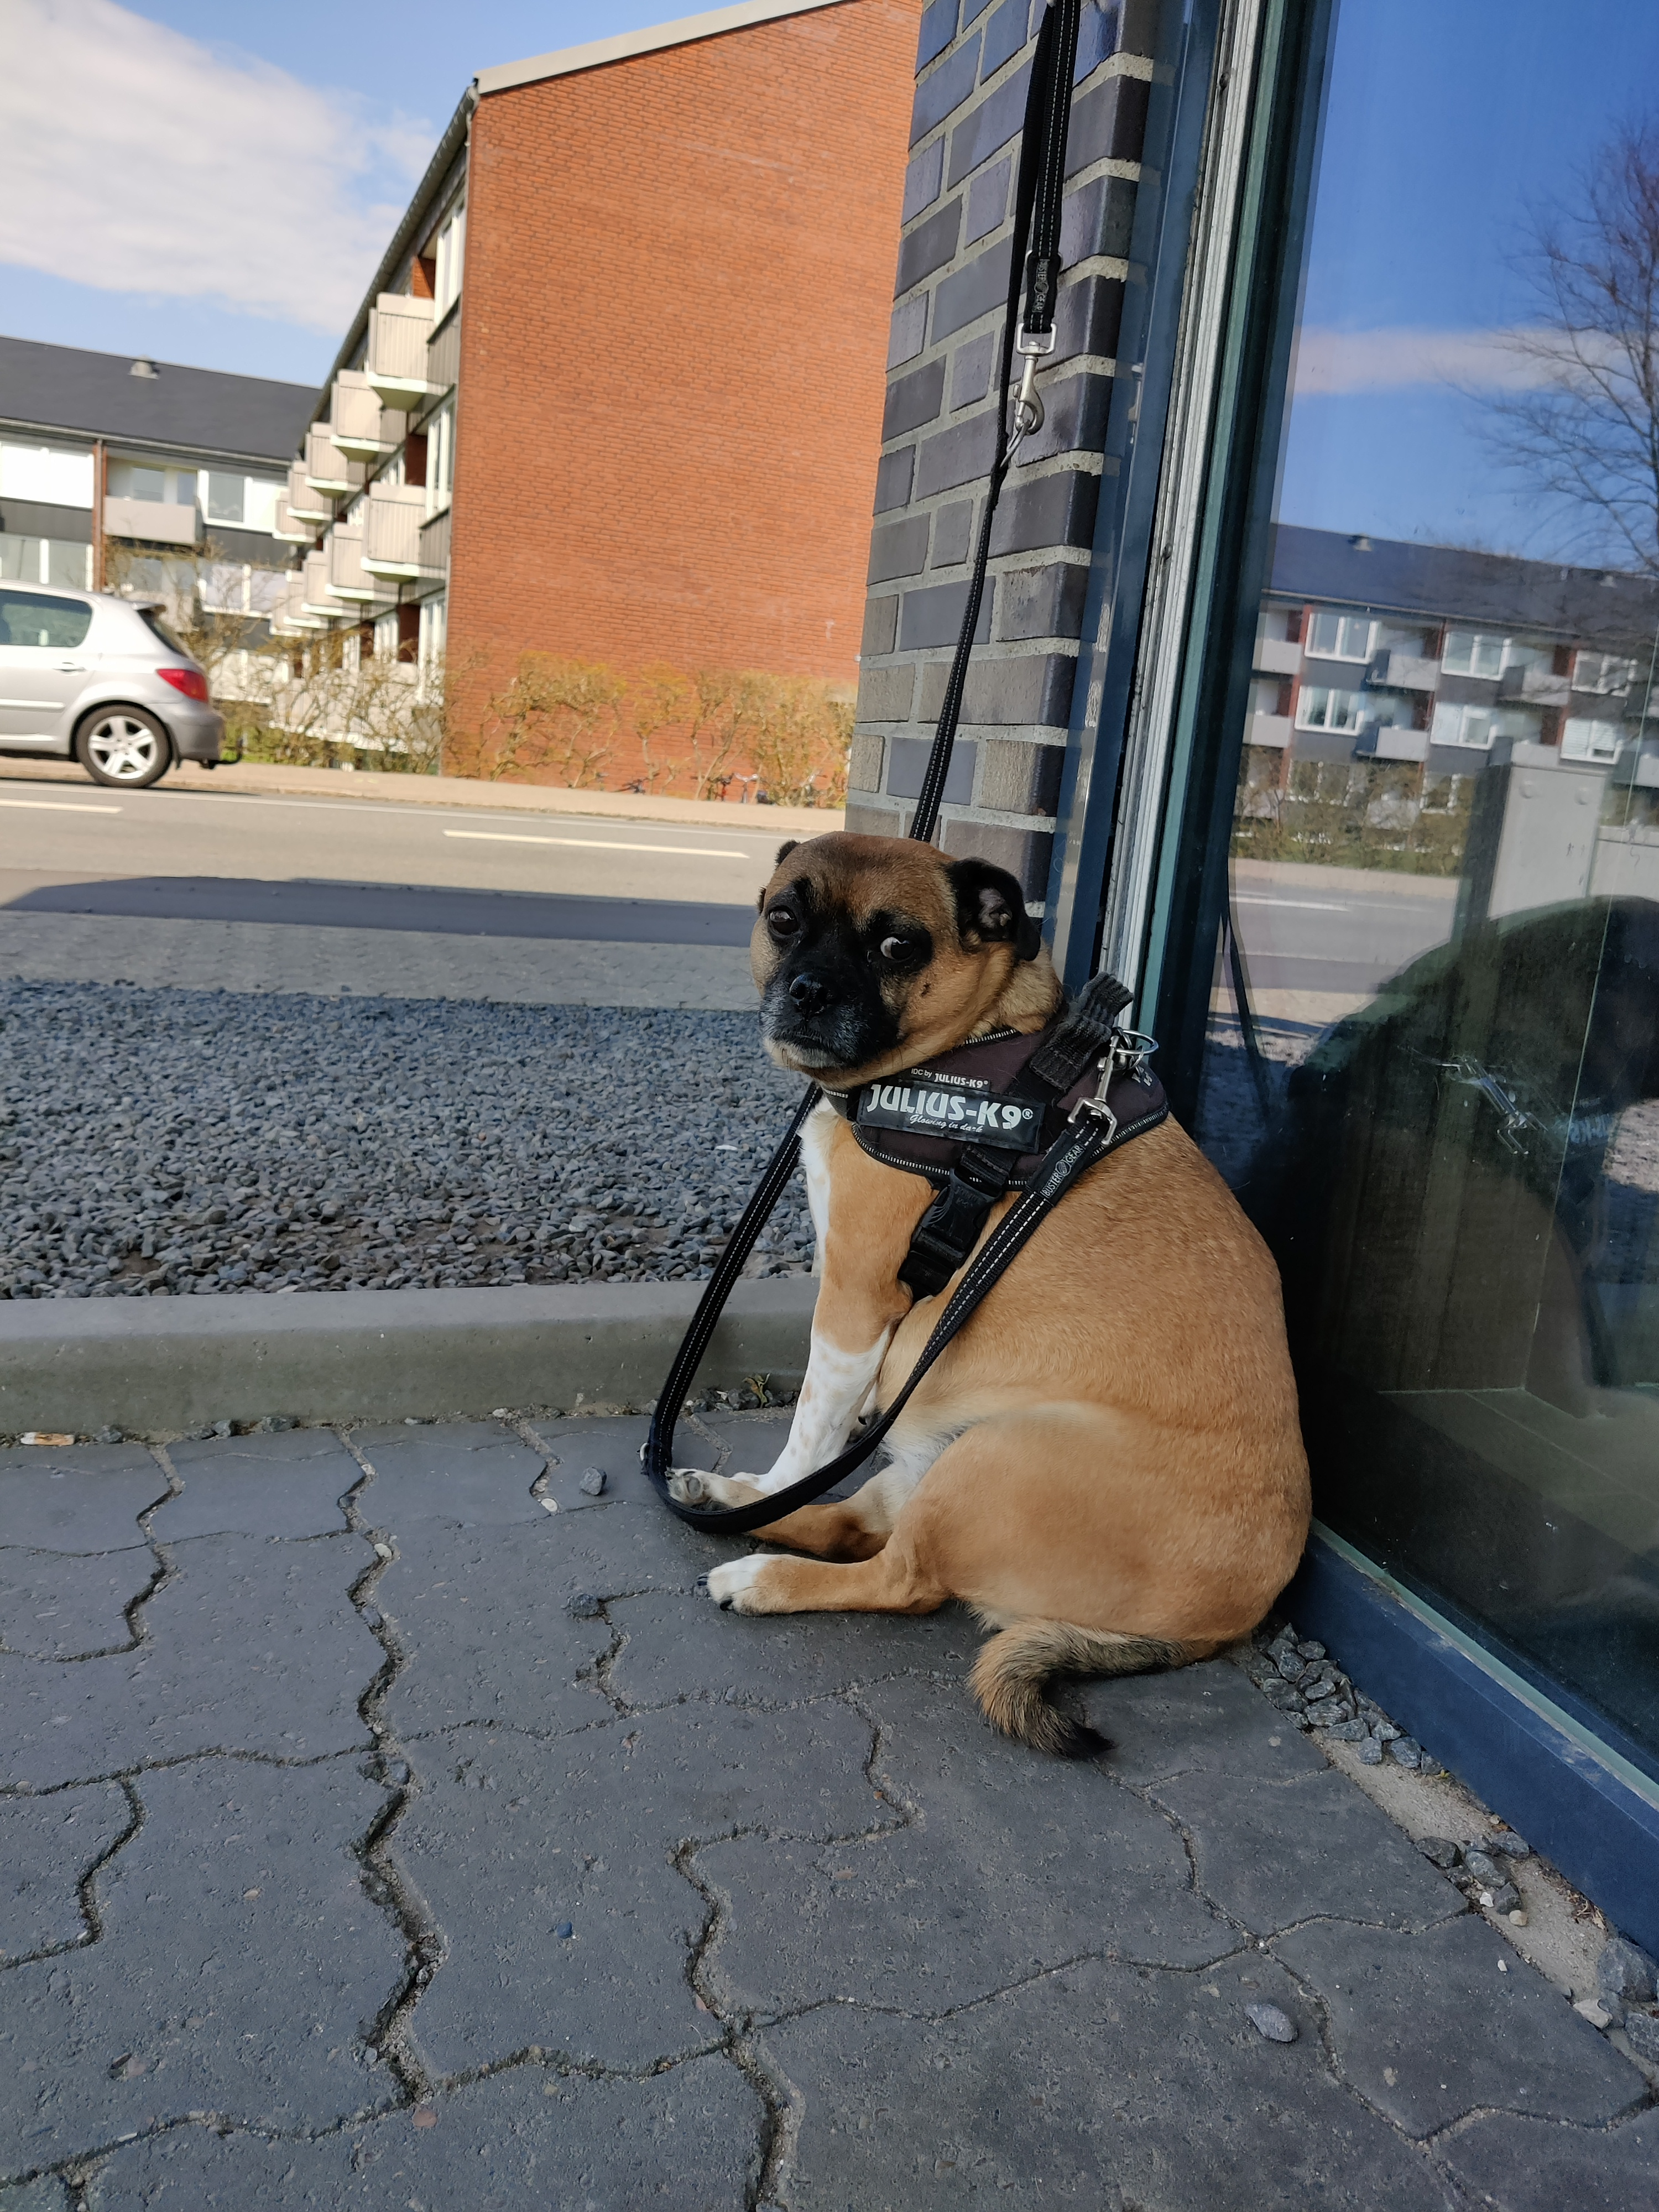Dog: (648, 817, 1319, 1768)
